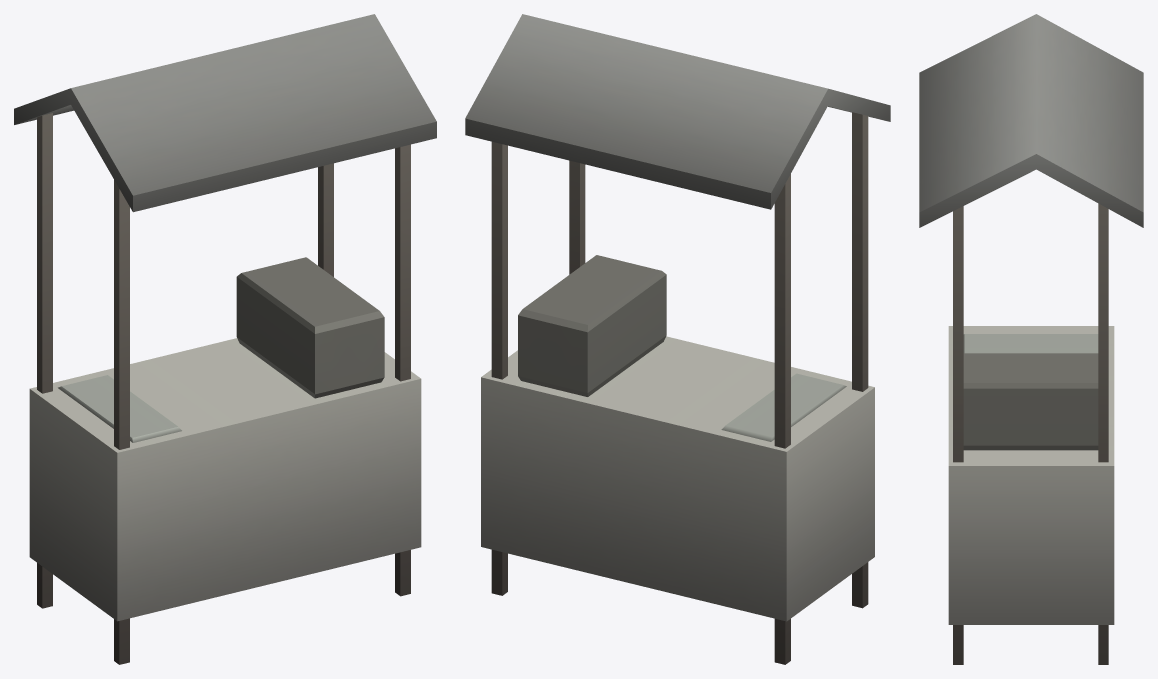
Rendered from HotDog_Stand.fbx.
3 views of the same model, side by side, from view 1: azimuth 30°, elevation 25°; view 2: azimuth 150°, elevation 25°; view 3: azimuth 270°, elevation 25° (orthographic). The views are drawn at different scales.
Visible parts, largest first — view 1: HotDog_Stand; view 2: HotDog_Stand; view 3: HotDog_Stand.
Part boxes in pixels (box(x1,y1,x2,y2)): HotDog_Stand: box(14, 14, 436, 664); HotDog_Stand: box(465, 14, 890, 664); HotDog_Stand: box(919, 14, 1143, 664).
Size of the model in its own units: 153 by 262 by 103.
